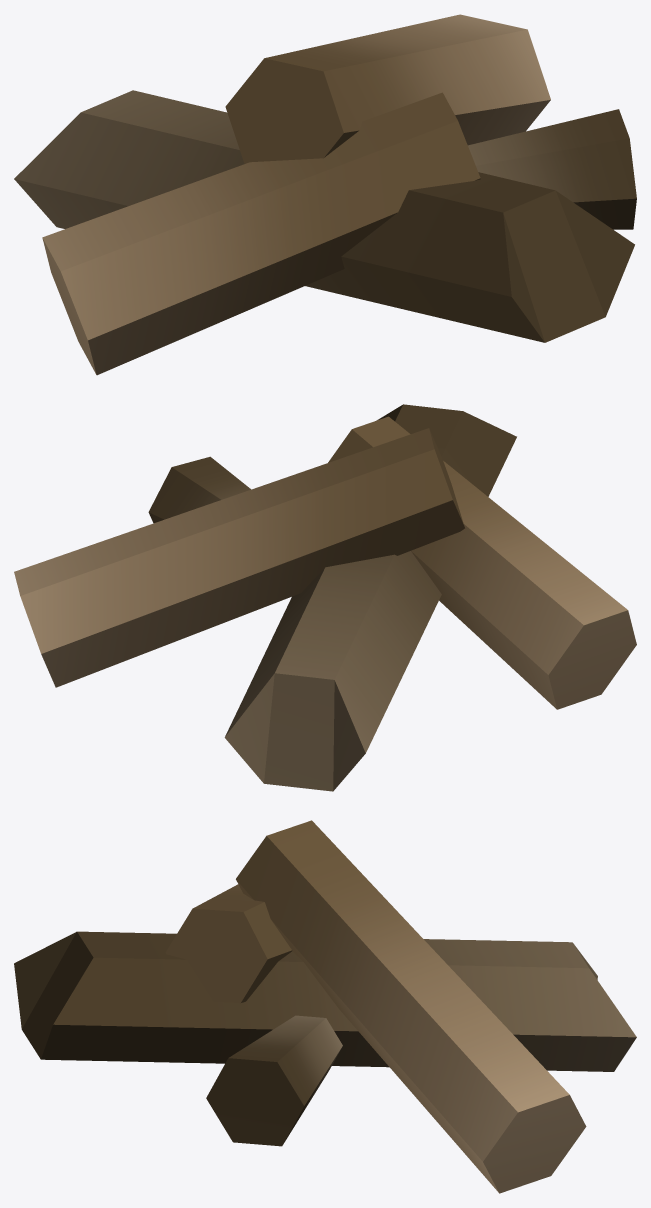
The model's file is WoodPile.fbx.
The picture shows the model from 3 angles, top to bottom: view 1: azimuth 30°, elevation 25°; view 2: azimuth 150°, elevation 25°; view 3: azimuth 270°, elevation 25°; orthographic projection. The views are drawn at different scales.
Parts seen in each view (by area): view 1: WoodPile; view 2: WoodPile; view 3: WoodPile.
Part boxes in pixels (x1,y1,x2,y2): WoodPile: (14,14,636,375); WoodPile: (14,404,636,791); WoodPile: (14,820,636,1193).
Size of the model in its own units: 0.8266 by 0.3646 by 0.8587.
Materials: 1 (1 with a texture image).
